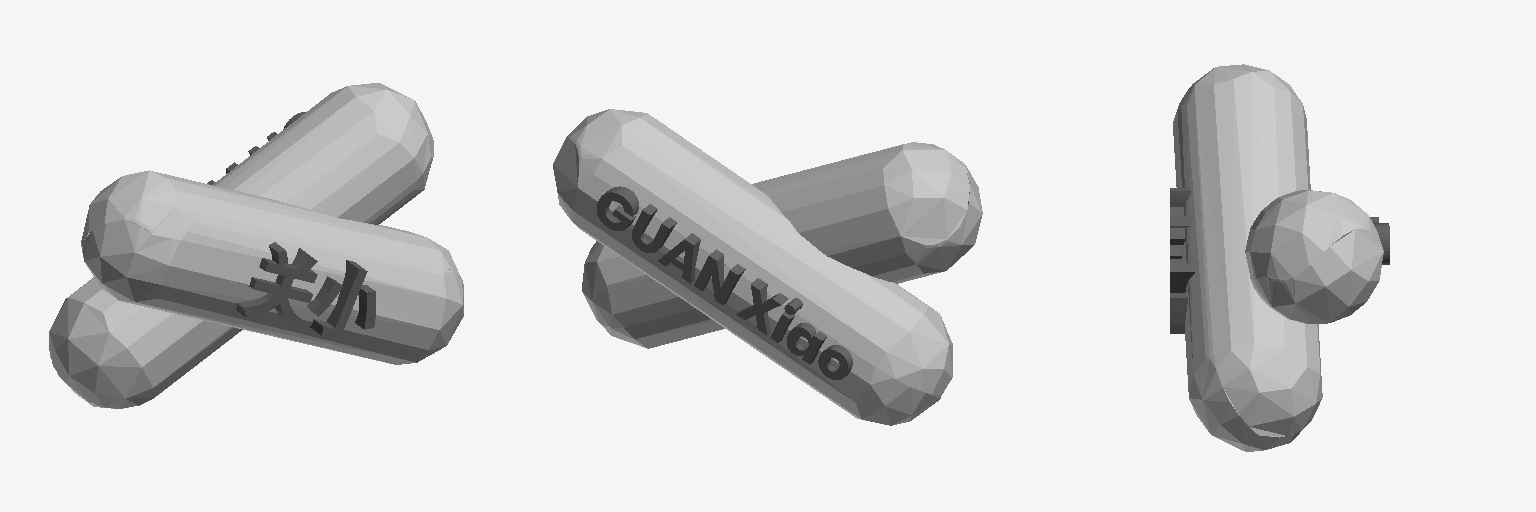
The model's file is GuanXiao.obj.
3 renders of one model, left to right at view 1: azimuth 30°, elevation 25°; view 2: azimuth 150°, elevation 25°; view 3: azimuth 270°, elevation 25°, orthographic.
Visible parts, largest first — view 1: root_3, root_2, node_id247; view 2: root_2, root_3, node_id258; view 3: root_3, root_2, node_id247.
Boxes of the visible parts, <box> form: root_3: <box>81,170,463,364</box>; root_2: <box>49,83,433,408</box>; node_id247: <box>236,242,375,337</box>; root_2: <box>553,109,952,425</box>; root_3: <box>582,142,982,348</box>; node_id258: <box>597,186,852,380</box>; root_3: <box>1173,64,1322,451</box>; root_2: <box>1245,190,1383,323</box>; node_id247: <box>1170,188,1194,333</box>.
Bounding box in the file's own units: 0.289 × 0.1836 × 0.1467.